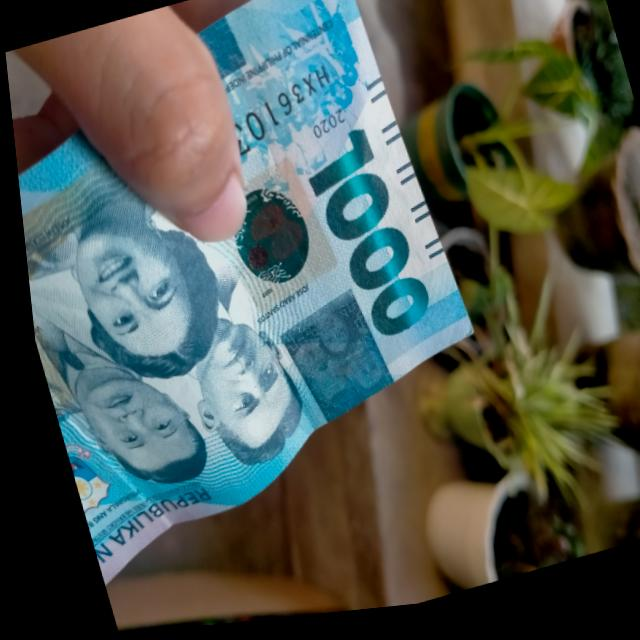concealed_value: (266, 291, 387, 433)
optically_variable_device: (205, 158, 333, 321)
serial_number: (211, 57, 340, 178)
